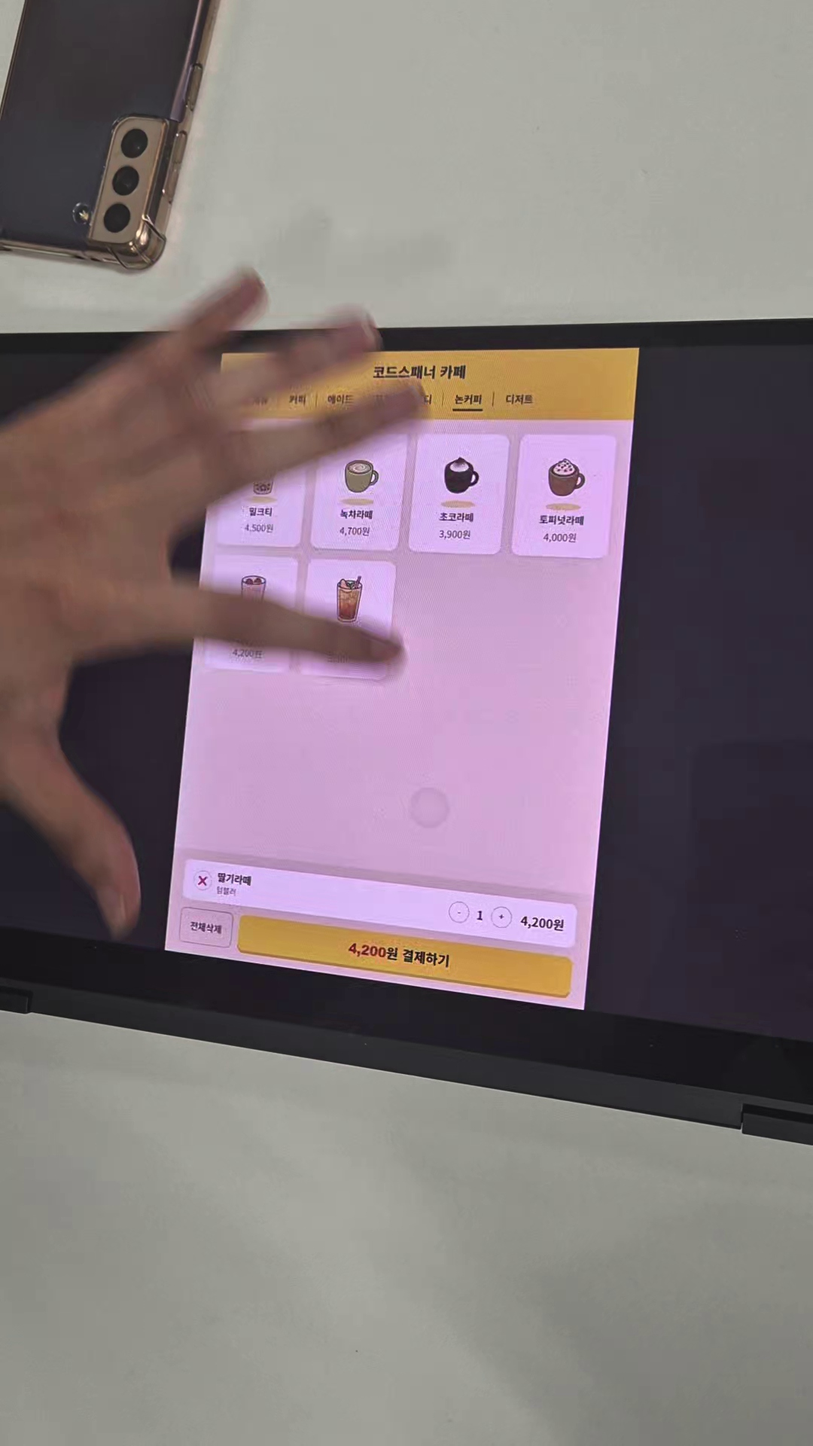action_button: (233, 913, 573, 998), (177, 906, 233, 947)
cart_item: (182, 858, 579, 948)
category_tab: (453, 394, 486, 406), (505, 393, 536, 405), (325, 394, 354, 405), (286, 394, 308, 407)
menu_back: (510, 432, 617, 560), (297, 557, 398, 681), (408, 432, 509, 554), (200, 551, 299, 675), (215, 425, 311, 548), (310, 430, 406, 553)
menu_name: (538, 514, 586, 526), (439, 511, 476, 523), (338, 507, 374, 519), (247, 505, 274, 516)
menu_price: (542, 531, 578, 544), (438, 528, 474, 540), (241, 523, 274, 535), (337, 525, 371, 536)
